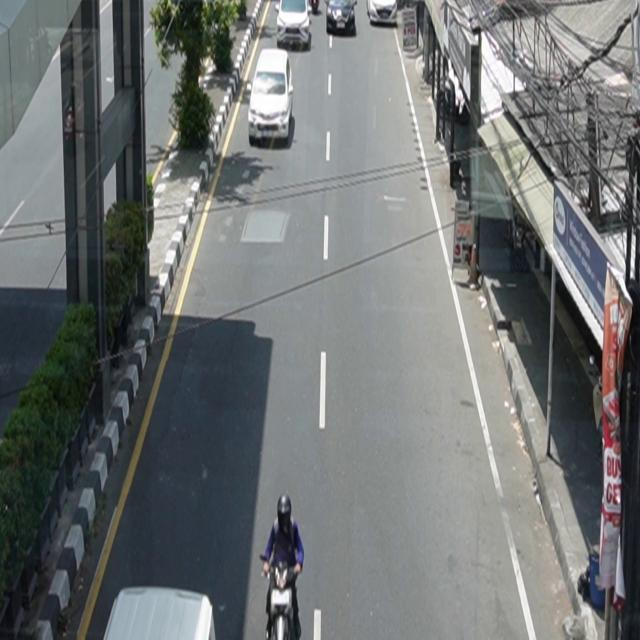car: (249, 49, 294, 147), (276, 1, 312, 51), (327, 1, 358, 35), (367, 1, 398, 26)
